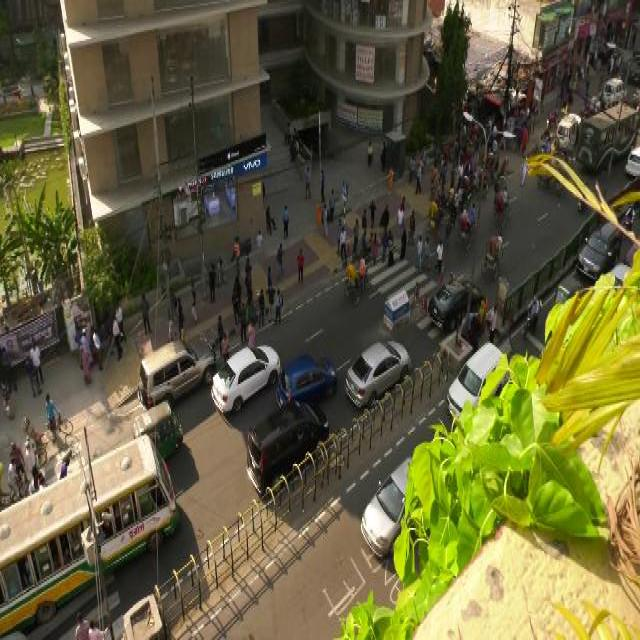car: (209, 339, 283, 415), (343, 334, 413, 412)
minivan: (242, 394, 331, 498)
rickshaw: (343, 262, 371, 308)
suv: (147, 331, 216, 402), (272, 349, 338, 408)
three wheelers -CNG-: (158, 400, 186, 460)
